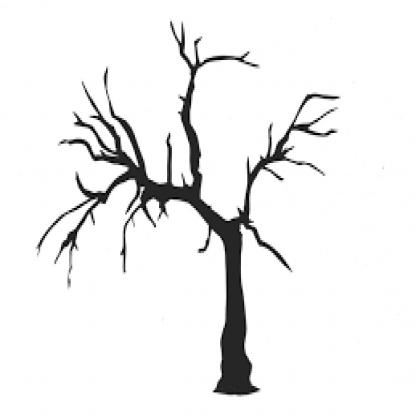trunk_straight: (219, 252, 252, 371)
